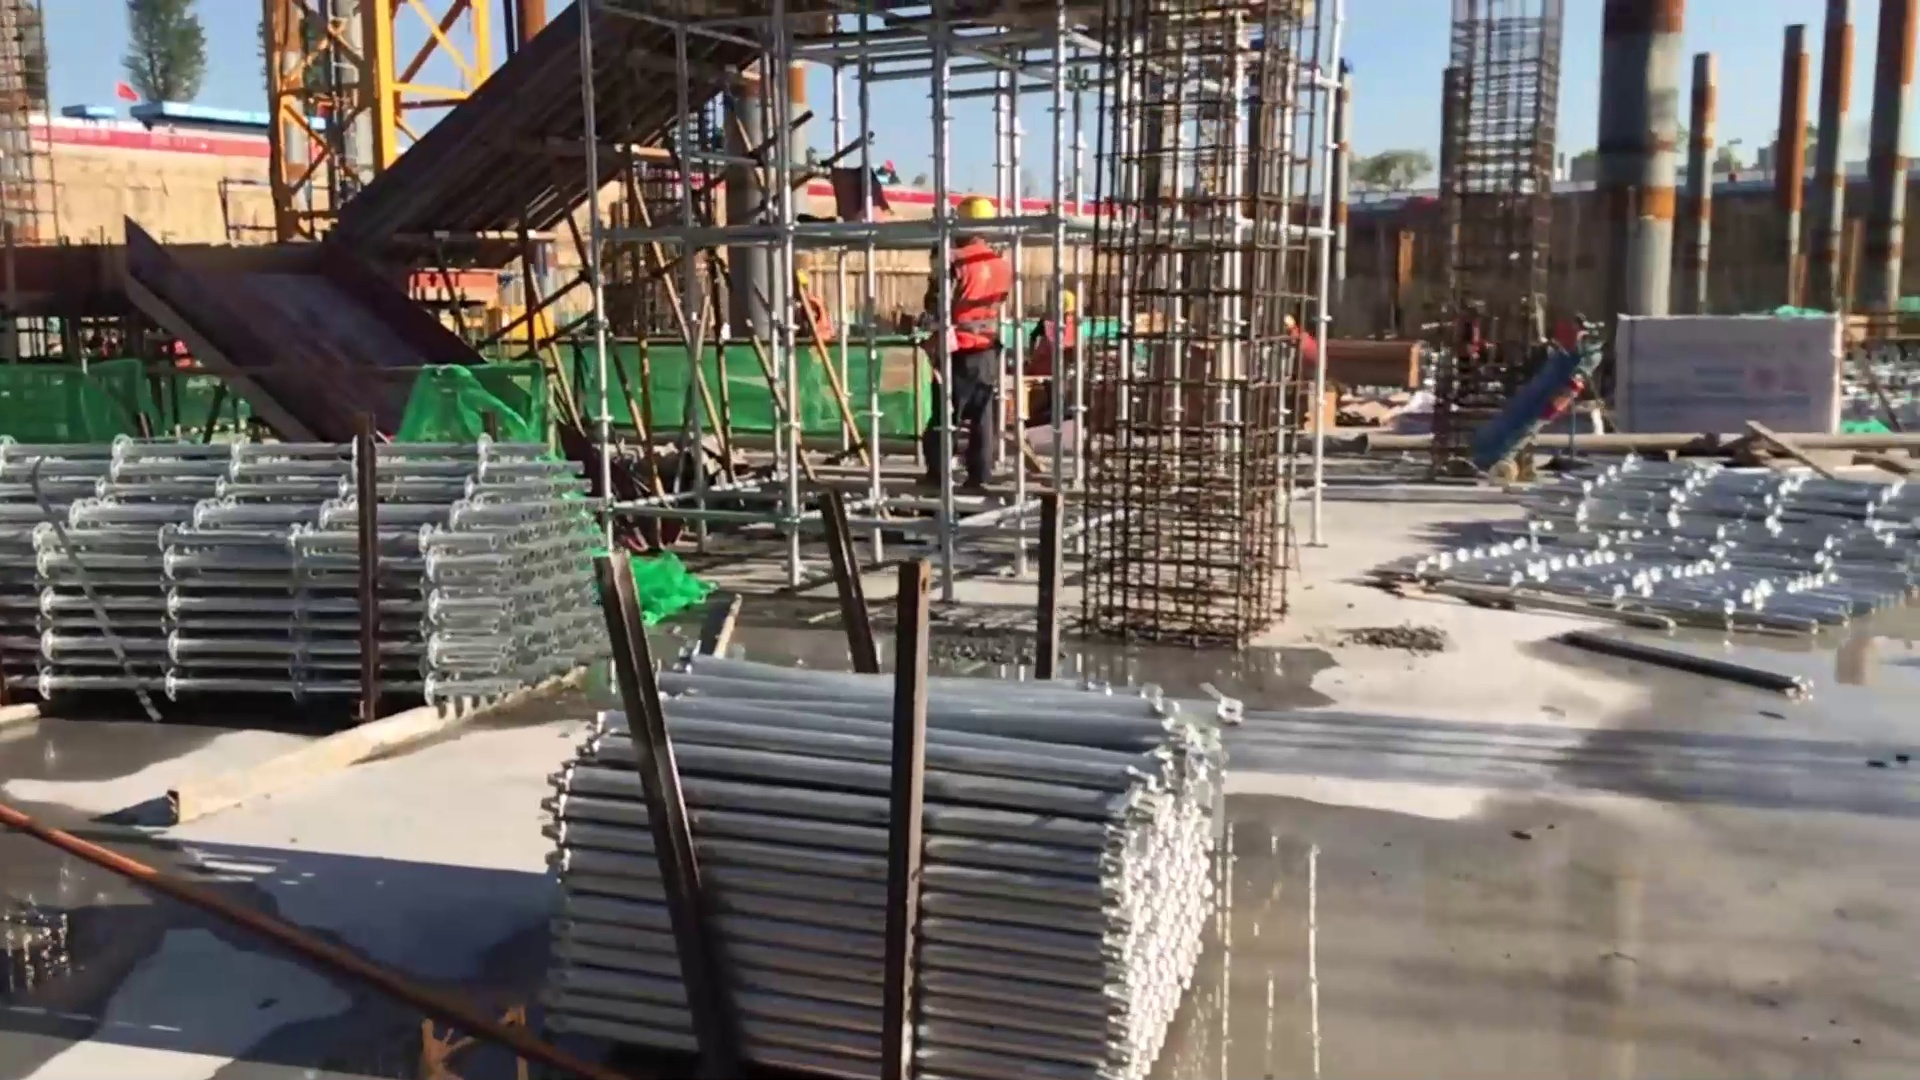person: (925, 187, 1002, 493)
scaffold: (546, 656, 1216, 1080), (6, 435, 604, 697), (1420, 458, 1920, 623)
